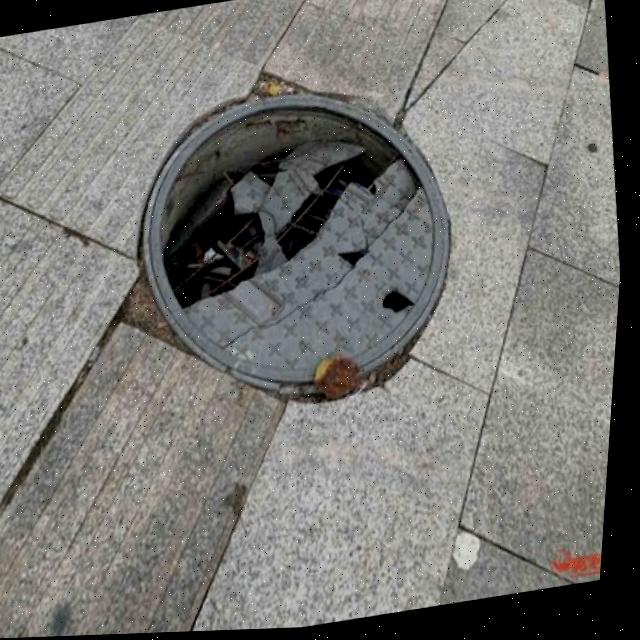manhole: (112, 62, 478, 426)
